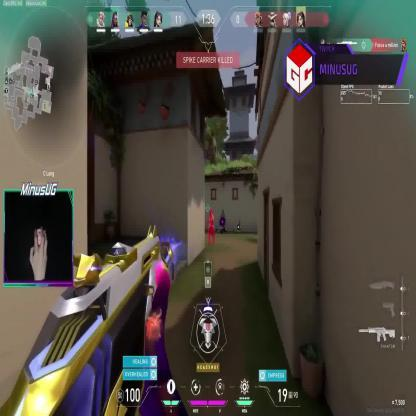enemy: (206, 208, 214, 246)
enemy_head: (209, 209, 213, 216)
